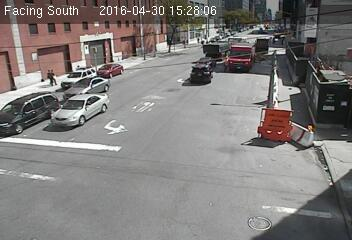neg: (123, 37, 159, 85), (1, 105, 30, 144), (43, 99, 63, 126)
pos: (44, 66, 60, 87)
